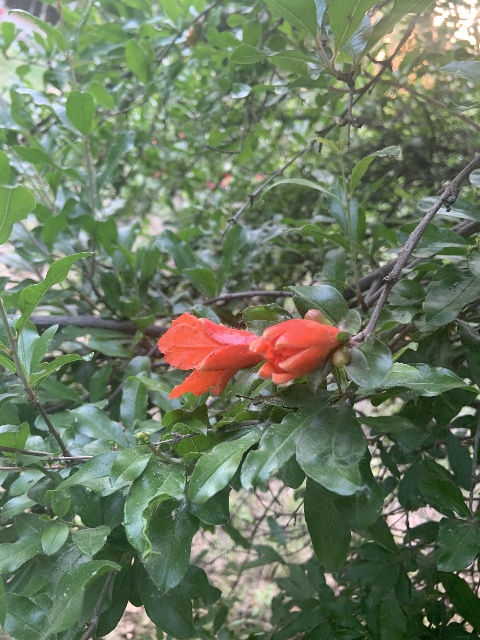bud: (304, 308, 331, 326), (331, 346, 350, 368)
flower: (157, 311, 264, 400), (254, 316, 341, 384)
